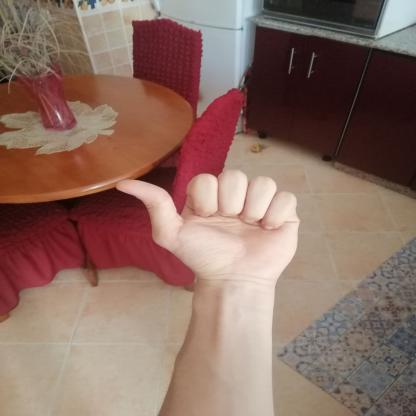DAD: (102, 162, 309, 294)
